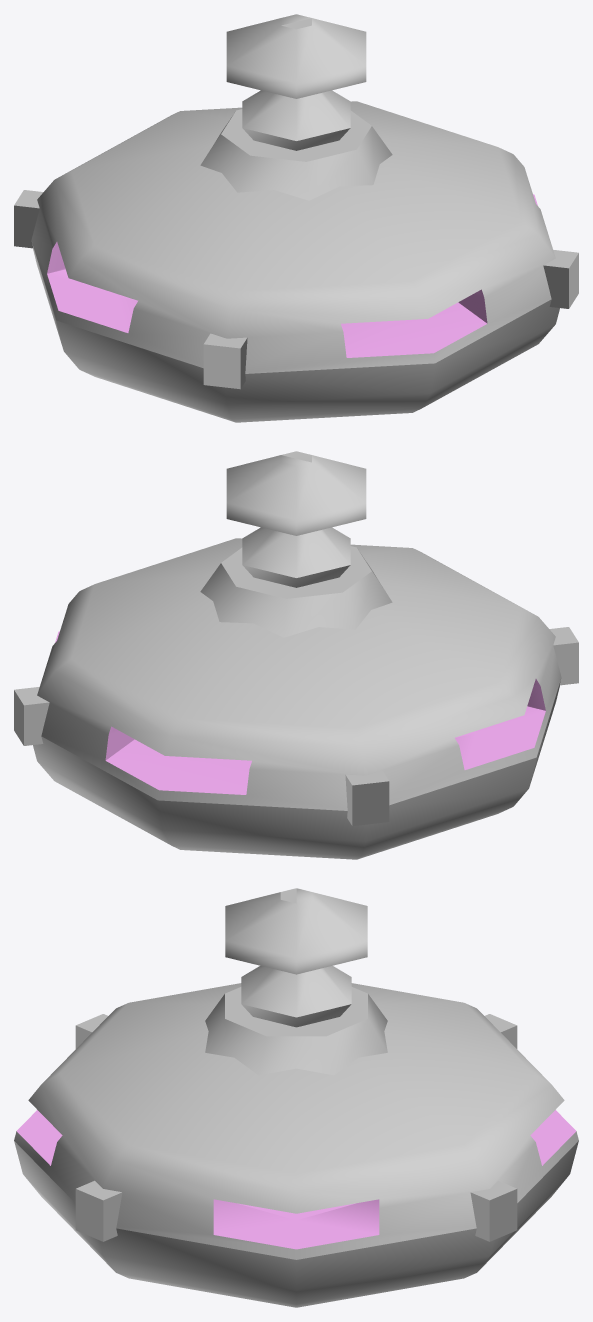
3 renders of one model, top to bottom at view 1: azimuth 30°, elevation 25°; view 2: azimuth 150°, elevation 25°; view 3: azimuth 270°, elevation 25°, orthographic.
Parts seen in each view (by area): view 1: frm-fuselg, frm-tfuselg2, frm-tfuselg1, frm-mfuselg4, frm-mfuselg1, frm-mfuselg3; view 2: frm-fuselg, frm-tfuselg2, frm-tfuselg1, frm-mfuselg3, frm-mfuselg2, frm-mfuselg4; view 3: frm-fuselg, frm-tfuselg2, frm-tfuselg1, frm-mfuselg2, frm-mfuselg1.
Part boxes in pixels (x1,y1,x2,y2): frm-fuselg: [31, 101, 559, 422]; frm-tfuselg2: [226, 14, 366, 150]; frm-tfuselg1: [200, 109, 392, 200]; frm-mfuselg4: [203, 333, 247, 389]; frm-mfuselg1: [543, 250, 578, 308]; frm-mfuselg3: [14, 190, 43, 248]; frm-fuselg: [33, 538, 561, 859]; frm-tfuselg2: [226, 451, 366, 587]; frm-tfuselg1: [200, 546, 392, 637]; frm-mfuselg3: [345, 770, 389, 826]; frm-mfuselg2: [14, 687, 49, 745]; frm-mfuselg4: [549, 627, 578, 685]; frm-fuselg: [14, 983, 578, 1307]; frm-tfuselg2: [225, 888, 367, 1027]; frm-tfuselg1: [205, 987, 387, 1075]; frm-mfuselg2: [470, 1180, 517, 1241]; frm-mfuselg1: [75, 1180, 122, 1241].
Size of what is drawn, in the model's own units: 12.39 by 9.08 by 12.39.
